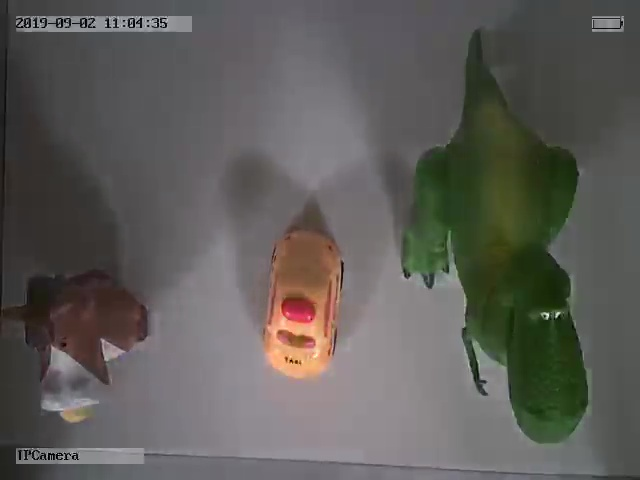car: (262, 227, 346, 380)
horse: (2, 268, 151, 423)
rex: (401, 42, 589, 445)
